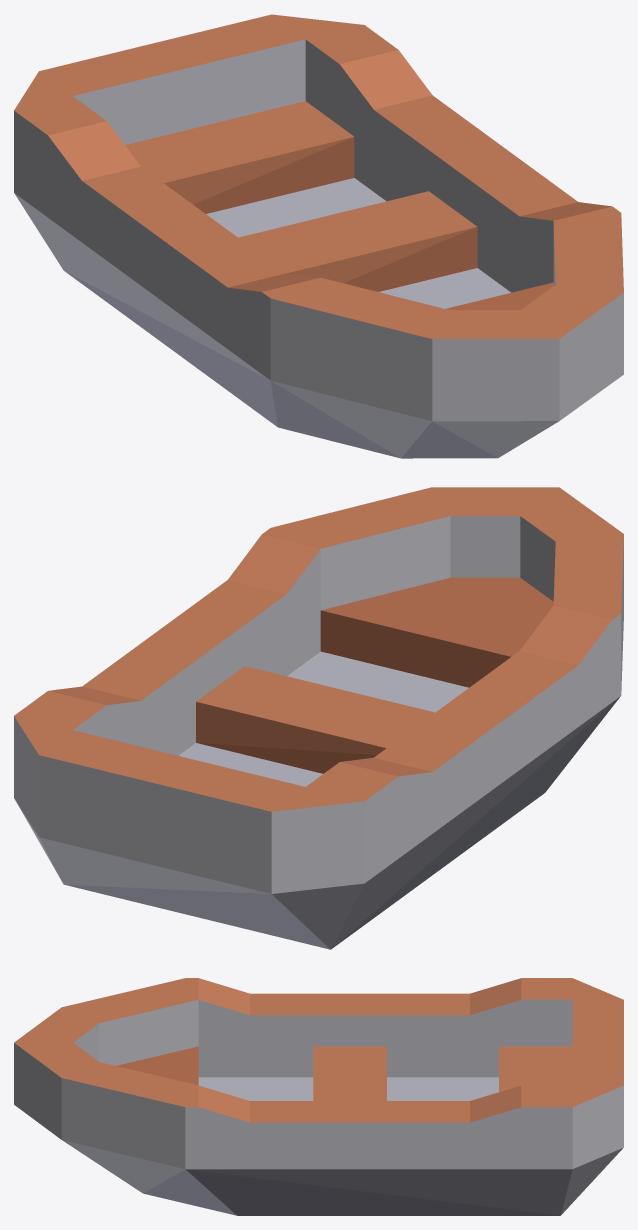
File: kit-rowing-boat.glb
The picture shows the model from 3 angles, top to bottom: view 1: azimuth 30°, elevation 25°; view 2: azimuth 150°, elevation 25°; view 3: azimuth 270°, elevation 25°; orthographic projection. The views are drawn at different scales.
Bounding box in the file's own units: 2.1 × 0.9424 × 4.2.
